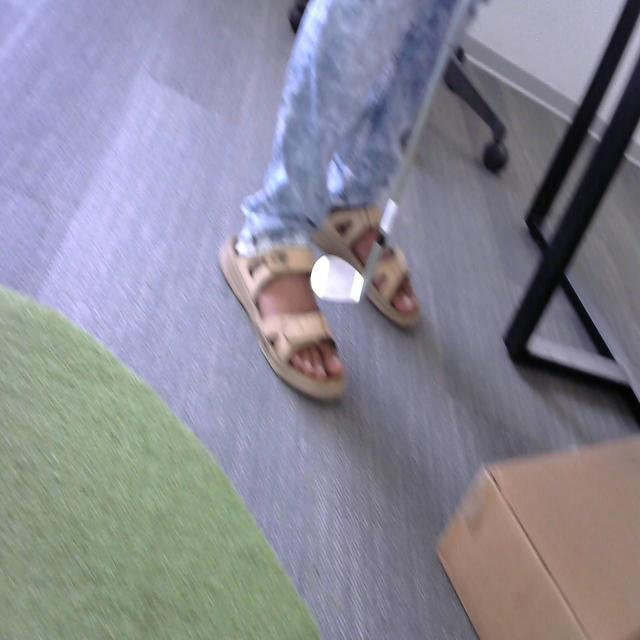ClubHead: (302, 240, 388, 324)
